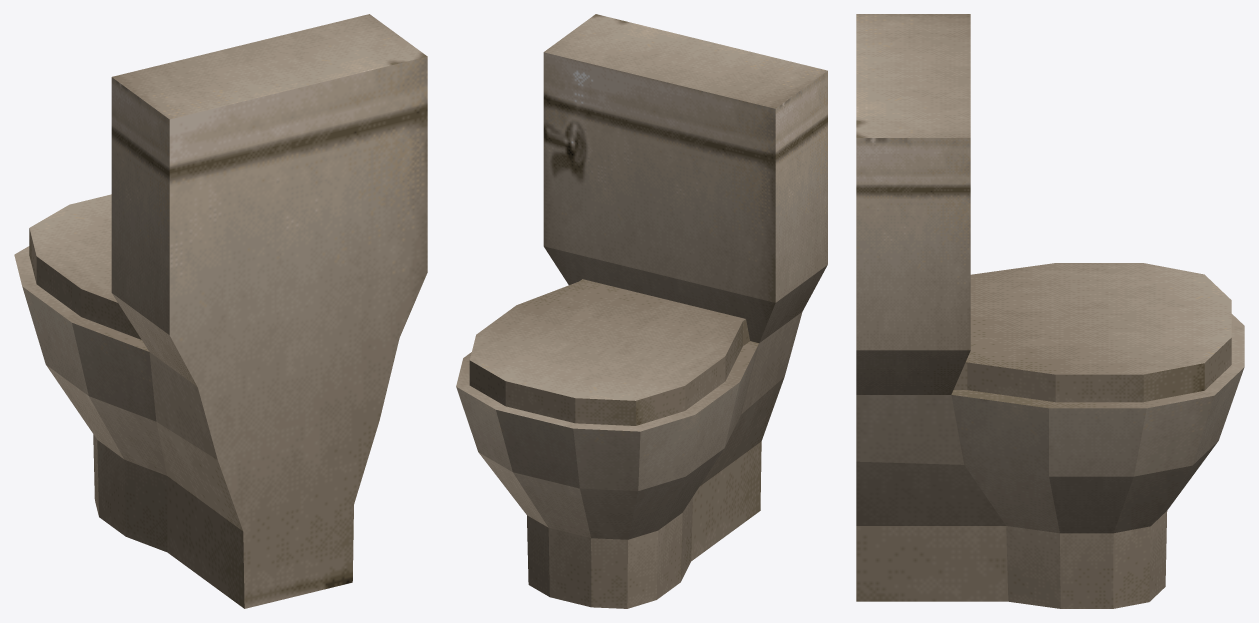
File: Toilet.fbx
The picture shows the model from 3 angles, left to right: view 1: azimuth 30°, elevation 25°; view 2: azimuth 150°, elevation 25°; view 3: azimuth 270°, elevation 25°; orthographic projection. The views are drawn at different scales.
Visible parts, largest first — view 1: Cube.002; view 2: Cube.002; view 3: Cube.002.
Boxes of the visible parts, bbox=[...] form: Cube.002: bbox=[14, 14, 427, 608]; Cube.002: bbox=[456, 14, 827, 608]; Cube.002: bbox=[856, 14, 1244, 608].
Size of the model in its own units: 170 by 319 by 224.
